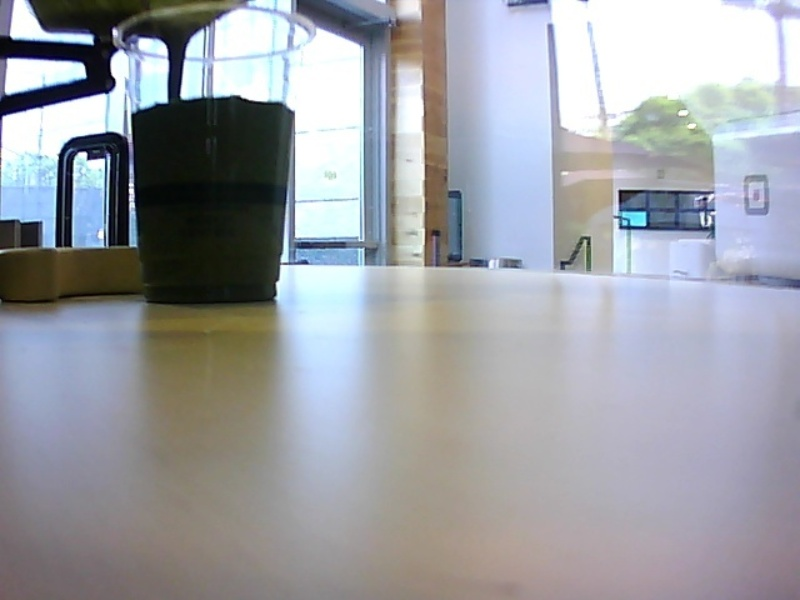cup: (108, 4, 317, 313)
limit: (128, 90, 296, 118)
